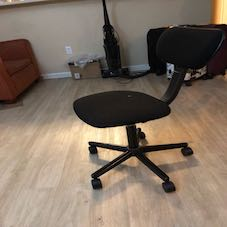chair: (68, 20, 226, 202)
